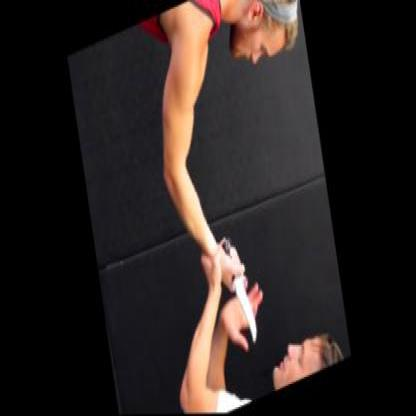knife: (218, 222, 264, 356)
